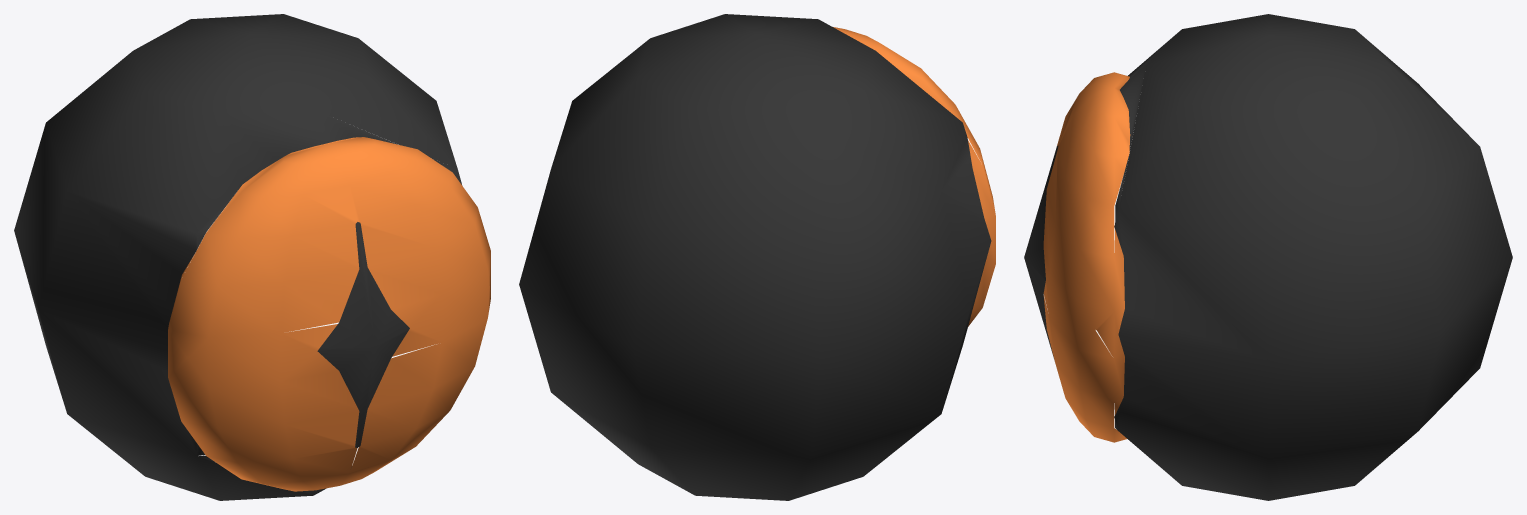
File: revelation_eye.gltf
3 renders of one model, left to right at view 1: azimuth 30°, elevation 25°; view 2: azimuth 150°, elevation 25°; view 3: azimuth 270°, elevation 25°, orthographic.
Visible parts, largest first — view 1: CSGBox3D2; view 2: CSGBox3D2; view 3: CSGBox3D2.
Part boxes in pixels (<box>): CSGBox3D2: <box>14,14,490,500</box>; CSGBox3D2: <box>519,14,995,500</box>; CSGBox3D2: <box>1024,14,1512,500</box>.
Size of the model in its own units: 0.34 by 0.34 by 0.34.
